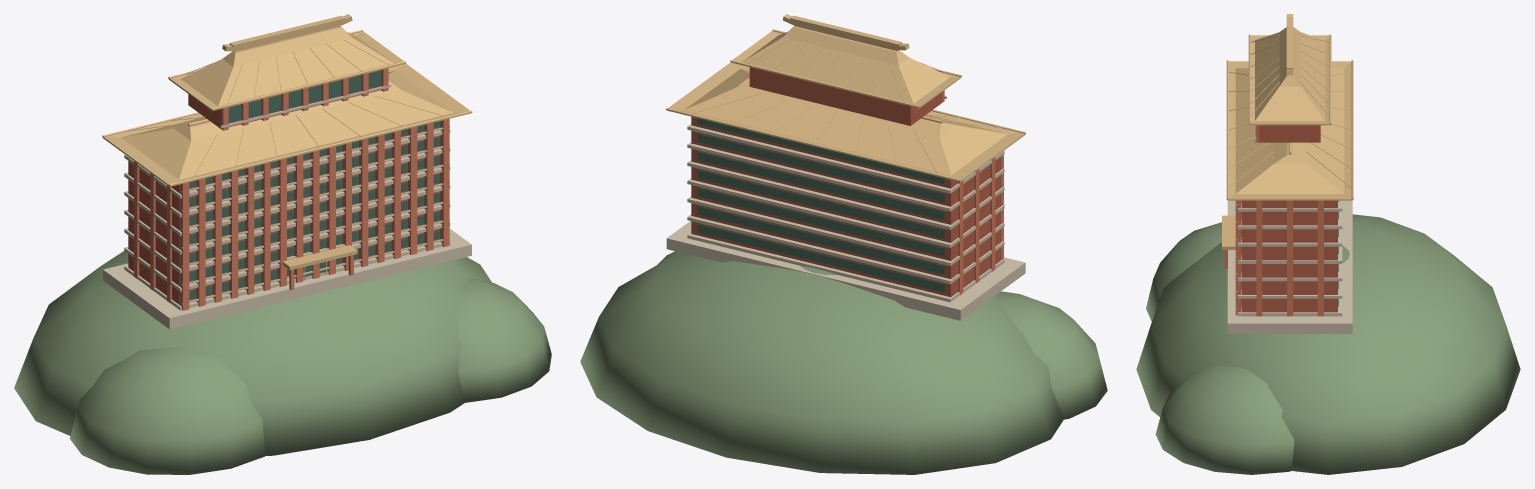
The model's file is tpe5_grand_hotel_yuanshan.glb.
The picture shows the model from 3 angles, left to right: view 1: azimuth 30°, elevation 25°; view 2: azimuth 150°, elevation 25°; view 3: azimuth 270°, elevation 25°; orthographic projection. The views are drawn at different scales.
Parts seen in each view (by area): view 1: tpe5_grand_hotel_yuanshan__tpe5-hotel-sage-hill, tpe5_grand_hotel_yuanshan__tpe5-hotel-sandstone-gold-tile, tpe5_grand_hotel_yuanshan__tpe5-hotel-warm-red-columns, tpe5_grand_hotel_yuanshan__tpe5-hotel-warm-stone, tpe5_grand_hotel_yuanshan__tpe5-hotel-dark-jade-windows, tpe5_grand_hotel_yuanshan__tpe5-hotel-cinnabar; view 2: tpe5_grand_hotel_yuanshan__tpe5-hotel-sage-hill, tpe5_grand_hotel_yuanshan__tpe5-hotel-sandstone-gold-tile, tpe5_grand_hotel_yuanshan__tpe5-hotel-warm-stone, tpe5_grand_hotel_yuanshan__tpe5-hotel-cinnabar, tpe5_grand_hotel_yuanshan__tpe5-hotel-dark-jade-windows, tpe5_grand_hotel_yuanshan__tpe5-hotel-warm-red-columns; view 3: tpe5_grand_hotel_yuanshan__tpe5-hotel-sage-hill, tpe5_grand_hotel_yuanshan__tpe5-hotel-sandstone-gold-tile, tpe5_grand_hotel_yuanshan__tpe5-hotel-cinnabar, tpe5_grand_hotel_yuanshan__tpe5-hotel-warm-stone, tpe5_grand_hotel_yuanshan__tpe5-hotel-warm-red-columns.
Boxes of the visible parts, x1,y1,x2,y2 form: tpe5_grand_hotel_yuanshan__tpe5-hotel-sage-hill: [14, 251, 551, 474]; tpe5_grand_hotel_yuanshan__tpe5-hotel-sandstone-gold-tile: [102, 14, 472, 280]; tpe5_grand_hotel_yuanshan__tpe5-hotel-warm-red-columns: [134, 68, 449, 310]; tpe5_grand_hotel_yuanshan__tpe5-hotel-warm-stone: [103, 84, 471, 329]; tpe5_grand_hotel_yuanshan__tpe5-hotel-dark-jade-windows: [189, 70, 440, 299]; tpe5_grand_hotel_yuanshan__tpe5-hotel-cinnabar: [128, 70, 440, 304]; tpe5_grand_hotel_yuanshan__tpe5-hotel-sage-hill: [580, 251, 1107, 474]; tpe5_grand_hotel_yuanshan__tpe5-hotel-sandstone-gold-tile: [666, 14, 1025, 182]; tpe5_grand_hotel_yuanshan__tpe5-hotel-warm-stone: [666, 96, 1025, 320]; tpe5_grand_hotel_yuanshan__tpe5-hotel-cinnabar: [691, 67, 1000, 297]; tpe5_grand_hotel_yuanshan__tpe5-hotel-dark-jade-windows: [697, 118, 944, 292]; tpe5_grand_hotel_yuanshan__tpe5-hotel-warm-red-columns: [942, 90, 1003, 295]; tpe5_grand_hotel_yuanshan__tpe5-hotel-sage-hill: [1136, 214, 1520, 474]; tpe5_grand_hotel_yuanshan__tpe5-hotel-sandstone-gold-tile: [1222, 14, 1353, 249]; tpe5_grand_hotel_yuanshan__tpe5-hotel-cinnabar: [1242, 125, 1337, 312]; tpe5_grand_hotel_yuanshan__tpe5-hotel-warm-stone: [1227, 125, 1352, 333]; tpe5_grand_hotel_yuanshan__tpe5-hotel-warm-red-columns: [1224, 125, 1323, 316].
Bounding box in the file's own units: 52 × 37.55 × 40.
